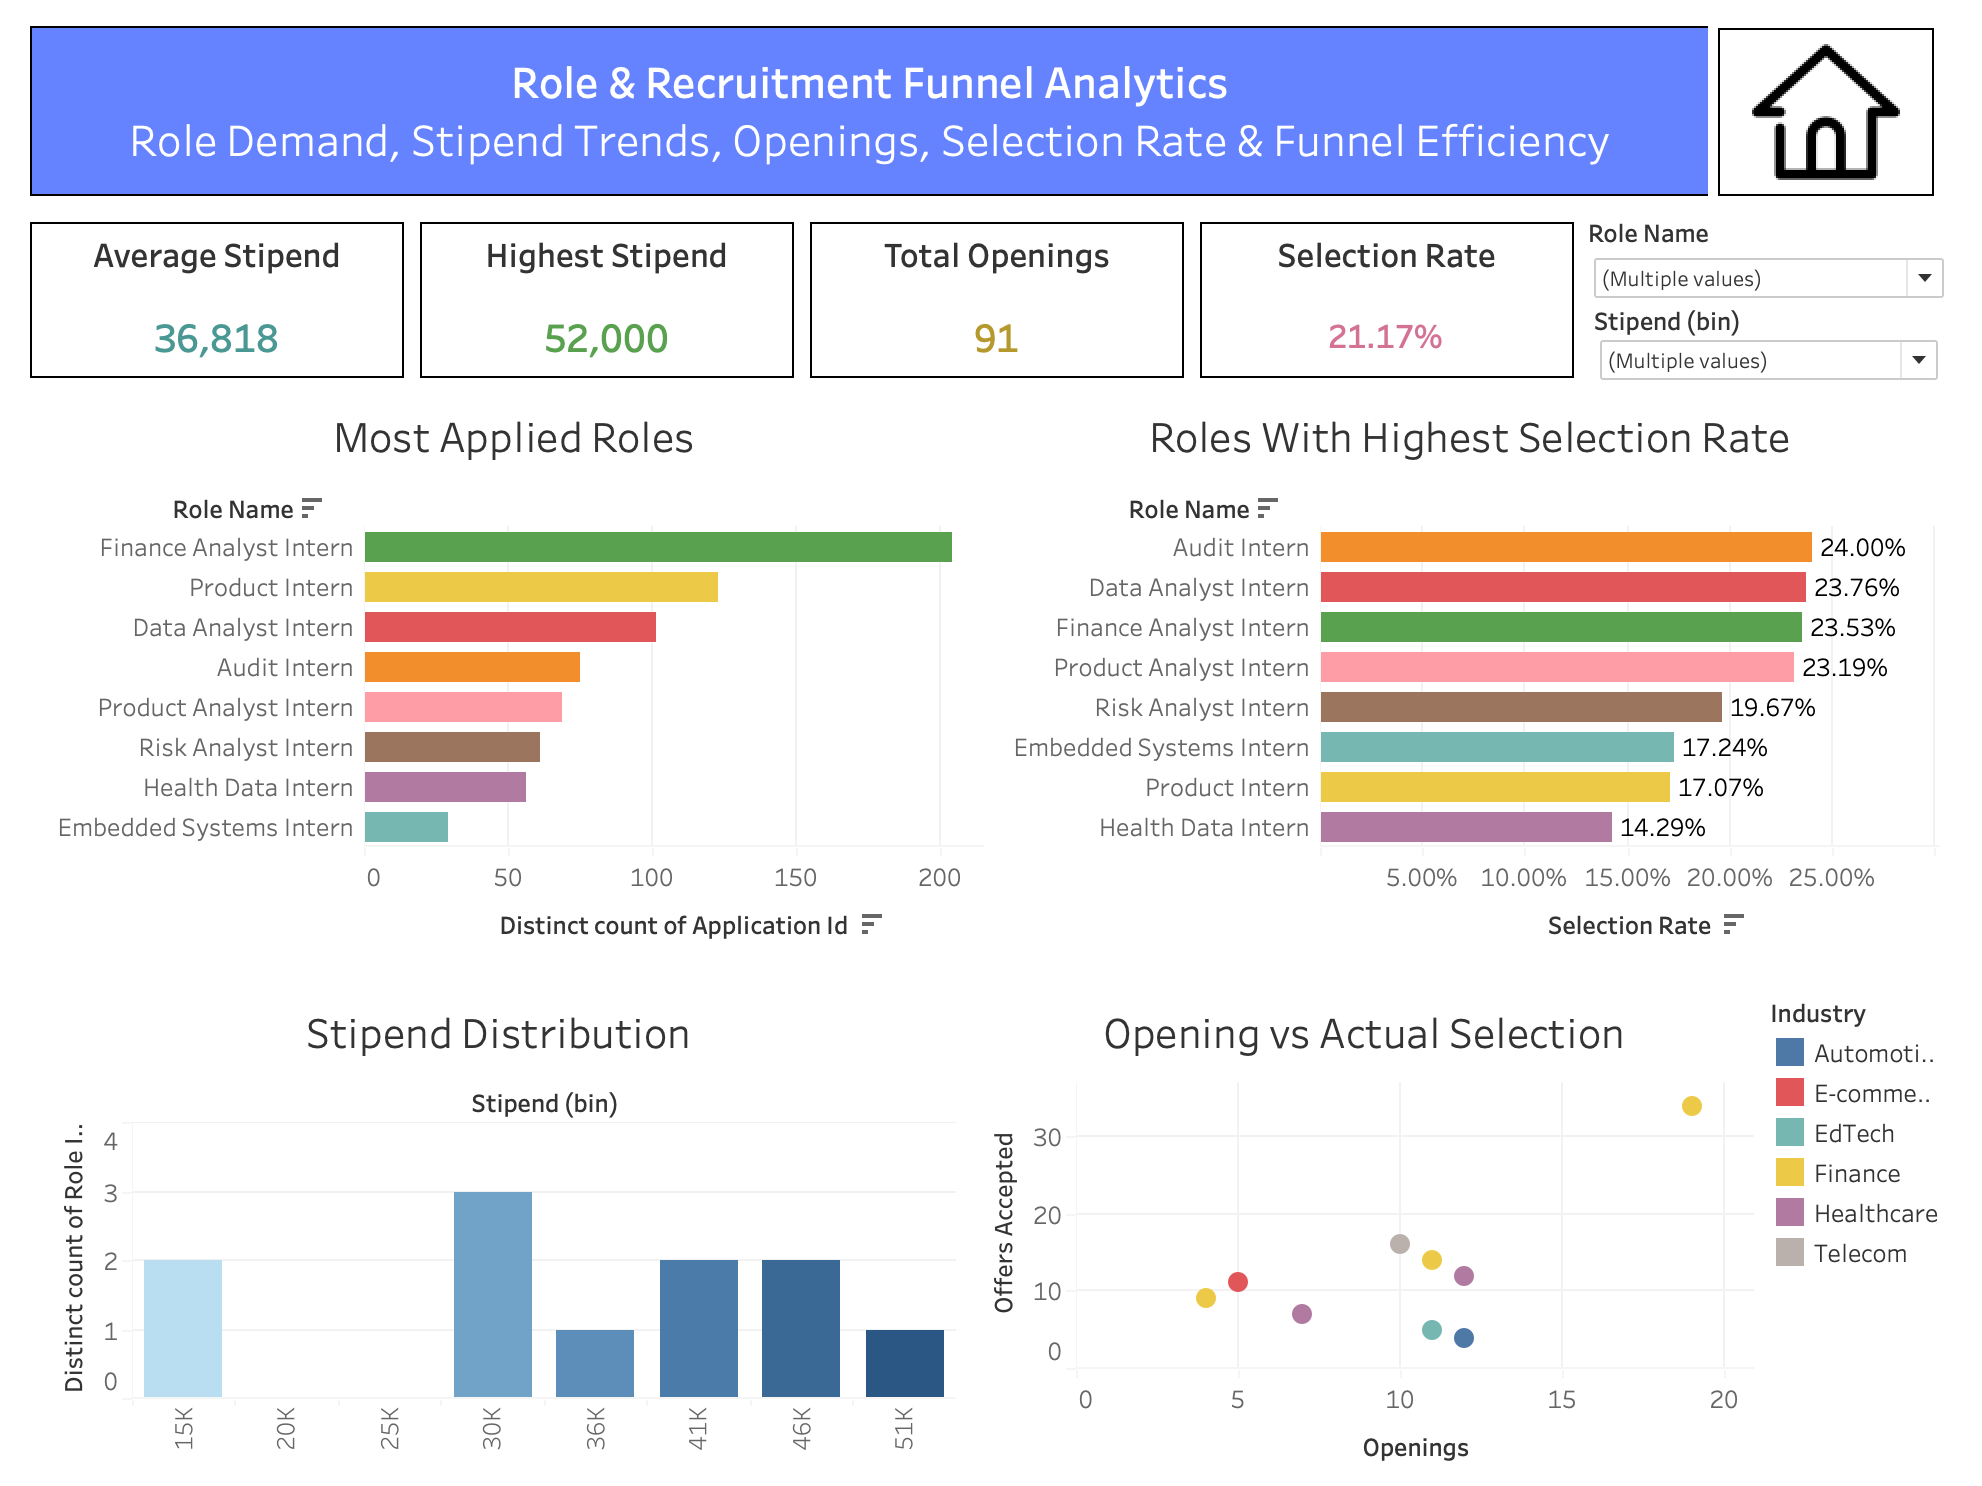

What the dashboard file says about the page in this screenshot:
{"tool":"tableau","page":{"name":"Dashboard 3: Recruitment & Role Analytics Dashboard","canvas":[1024,768],"ordinal":2},"visuals":[{"type":"text","box":[33.8,31.7,839.7,85.4]},{"type":"dashboard-object","box":[878,33,108,84]},{"type":"worksheet","title":"3.1 Average Stipend","mark":"Automatic","box":[30,126,195,86]},{"type":"worksheet","title":"3.2 Highest Stipend","mark":"Automatic","box":[225,126,195,86]},{"type":"worksheet","title":"3.3 Total Openings","mark":"Automatic","box":[420,126,195,86]},{"type":"worksheet","title":"3.4 Selection Rate","mark":"Automatic","box":[615,126,195,86]},{"type":"filter","title":"3.12 Roles with highest selection rate","param":"[federated.04u47211r3l3801akdy7t0svqm7r].[none:role_name:nk]","box":[813,127,181,45]},{"type":"filter","title":"3.13 Stipend Distribution","param":"[federated.04u47211r3l3801akdy7t0svqm7r].[none:Stipend (bin):ok]","box":[816,171,175,38]},{"type":"worksheet","title":"3.11 Most applied roles","mark":"Automatic","rows":["role_name"],"cols":["application_id"],"box":[36.9,215,478.2,296.6]},{"type":"worksheet","title":"3.12 Roles with highest selection rate","mark":"Automatic","rows":["role_name"],"cols":["Calculation_2897160029589514"],"box":[515.1,215,478.2,296.6]},{"type":"worksheet","title":"3.13 Stipend Distribution","mark":"Automatic","rows":["role_id (roles.csv)"],"cols":["Stipend (bin)"],"box":[35.8,512.6,465,248.6]},{"type":"worksheet","title":"3.14 Opening vs actual selection","mark":"Circle","rows":["Calculation_2897160006139905"],"cols":["openings"],"box":[500.8,512.6,399.5,248.6]},{"type":"legend","title":"3.14 Opening vs actual selection","param":"[federated.04u47211r3l3801akdy7t0svqm7r].[none:industry:nk]","box":[900.4,512.6,97,248.6]}]}

Visuals, with their boxes in screenshot pixels (x1, y1, x2, y2), scaled from the page's 1024x768 canvas onto the 1982x1486 screenshot:
text: <box>65,61,1691,227</box>
dashboard-object: <box>1699,64,1908,226</box>
"3.1 Average Stipend" worksheet: <box>58,244,435,410</box>
"3.2 Highest Stipend" worksheet: <box>435,244,813,410</box>
"3.3 Total Openings" worksheet: <box>813,244,1190,410</box>
"3.4 Selection Rate" worksheet: <box>1190,244,1568,410</box>
"3.12 Roles with highest selection rate" filter: <box>1574,246,1924,333</box>
"3.13 Stipend Distribution" filter: <box>1579,331,1918,404</box>
"3.11 Most applied roles" worksheet: <box>71,416,997,990</box>
"3.12 Roles with highest selection rate" worksheet: <box>997,416,1923,990</box>
"3.13 Stipend Distribution" worksheet: <box>69,992,969,1473</box>
"3.14 Opening vs actual selection" worksheet (Circle marks): <box>969,992,1743,1473</box>
"3.14 Opening vs actual selection" legend: <box>1743,992,1931,1473</box>
